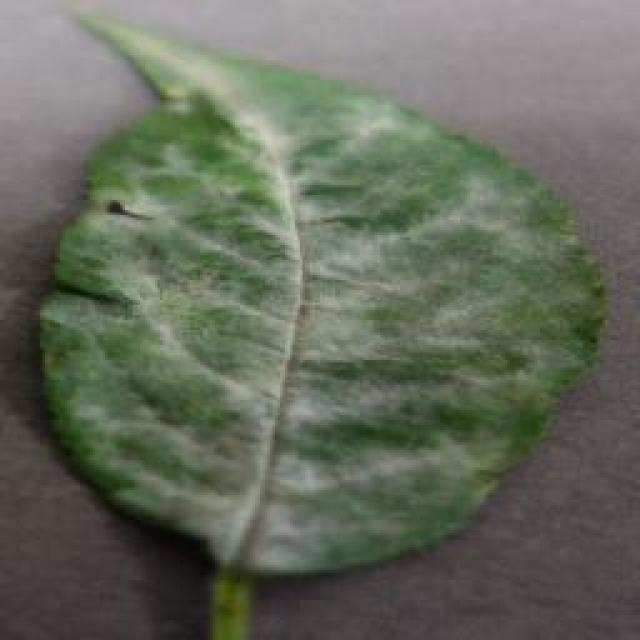Cherry___Powdery_mildew: (20, 0, 620, 640)
